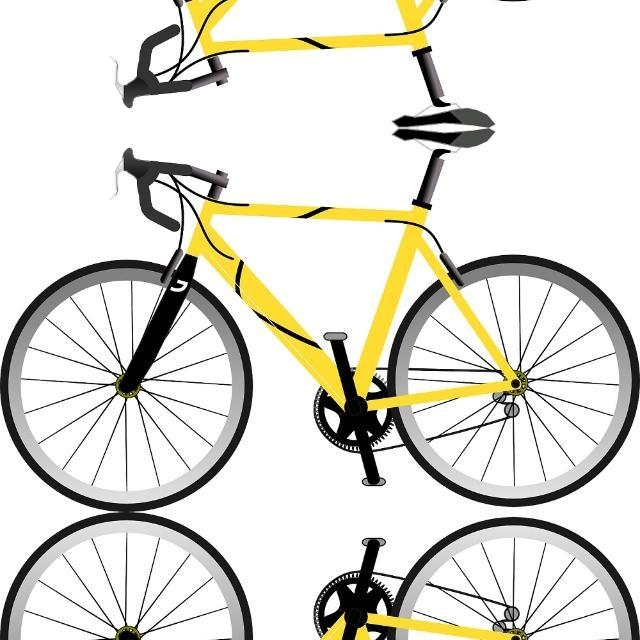obstacle: (5, 127, 639, 505), (5, 0, 639, 127), (5, 518, 639, 640)
